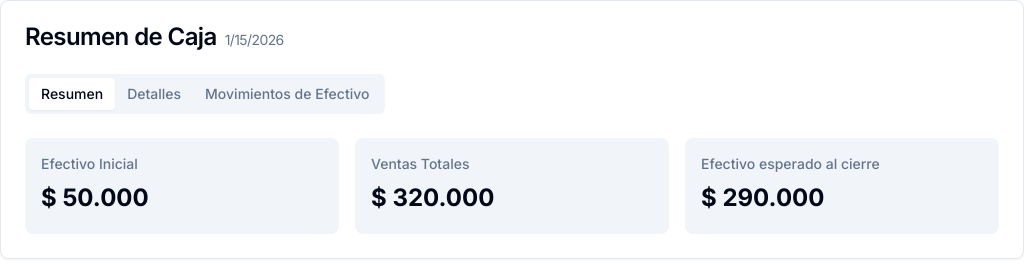
Test case: CashRegisterSummary — one read of the cash movements, when the tab asks for them › reads them exactly once when the tab is opened (no fetch + refetch effect)
Expected: the text "Resumen de Caja" is shown, [25,22,217,51]
Press the mouse on the tab "Movimientos de Efectivo" at [287, 94], box [193,78,381,110]
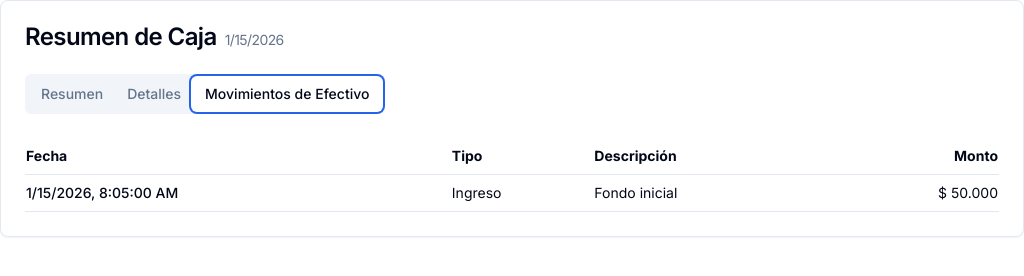
Expected: the text "Fondo inicial" is shown, [593,174,828,212]
